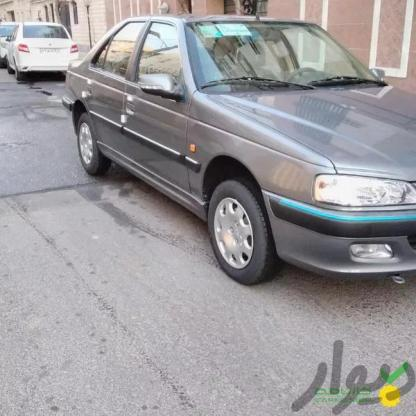Car: (70, 19, 416, 292), (4, 21, 83, 79)
